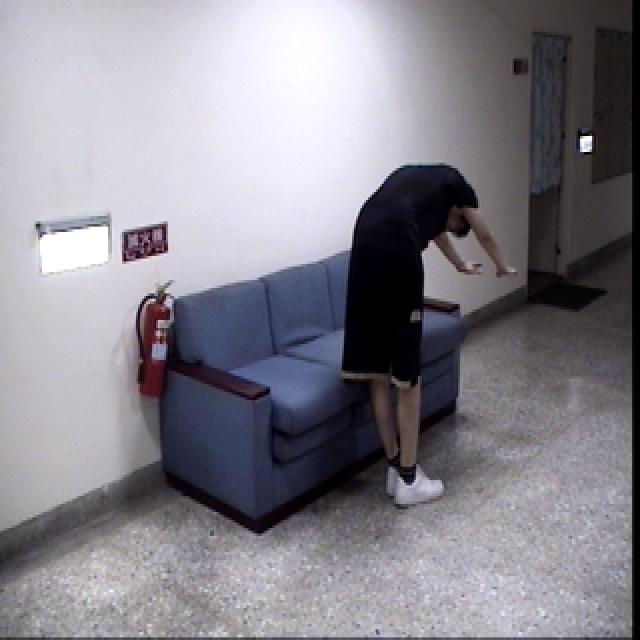bend: (338, 148, 519, 519)
